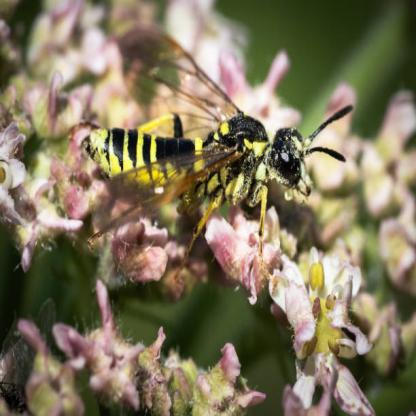sawfly: (74, 16, 359, 262)
